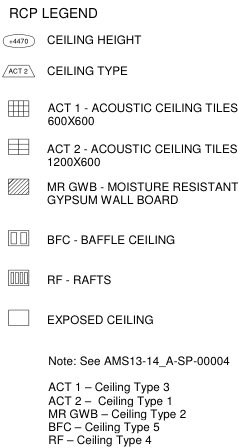hatch: (2, 32, 36, 50), (1, 63, 37, 80), (6, 227, 32, 248), (6, 267, 31, 288), (5, 99, 31, 119), (5, 137, 31, 157), (6, 308, 31, 328), (6, 177, 31, 196)
label: (44, 179, 238, 209), (45, 99, 237, 128), (45, 140, 237, 168), (45, 306, 165, 330), (45, 229, 179, 249), (44, 60, 131, 80), (44, 32, 143, 47), (45, 271, 115, 288)
